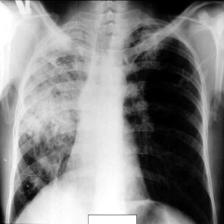tuberculosis: (3, 14, 215, 224)
